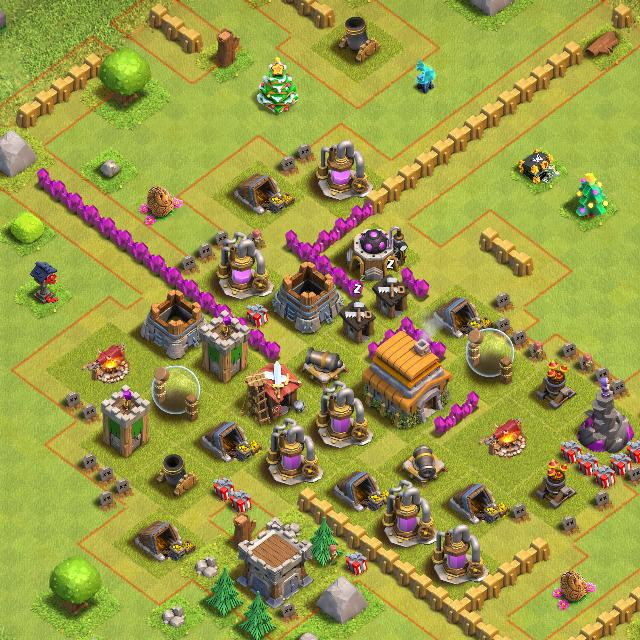Arqueira: (99, 384, 152, 458), (198, 308, 250, 382)
Canhao: (396, 442, 454, 486), (299, 344, 349, 388)
